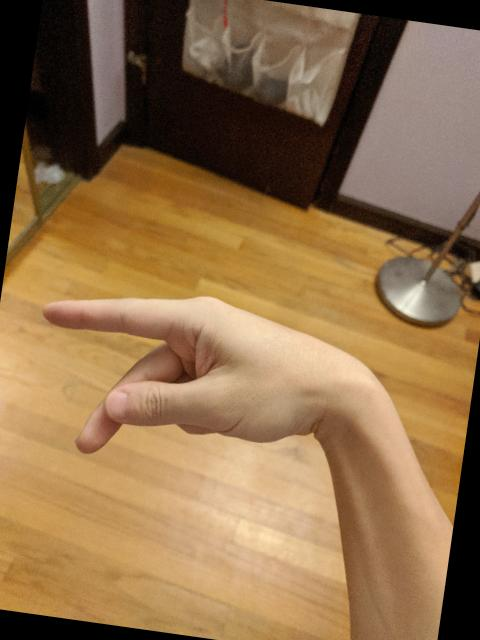P: (17, 268, 341, 494)
